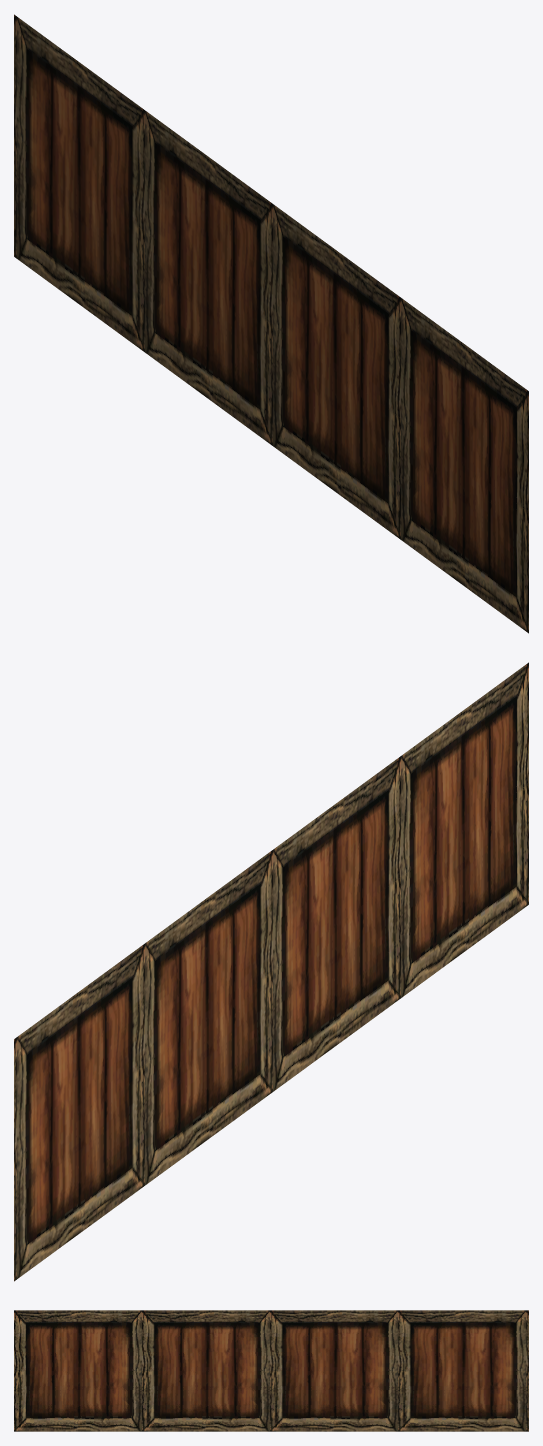
Rendered from LAKETOWN_EXTERIOR_PS_LT_PANEL297103.fbx.
3 renders of one model, top to bottom at view 1: azimuth 30°, elevation 25°; view 2: azimuth 150°, elevation 25°; view 3: azimuth 270°, elevation 25°, orthographic. The views are drawn at different scales.
Visible parts, largest first — view 1: LAKETOWN_EXTERIOR_PS_LT_PANEL297103; view 2: LAKETOWN_EXTERIOR_PS_LT_PANEL297103; view 3: LAKETOWN_EXTERIOR_PS_LT_PANEL297103.
Part boxes in pixels (x1,y1,x2,y2): LAKETOWN_EXTERIOR_PS_LT_PANEL297103: [14, 14, 528, 633]; LAKETOWN_EXTERIOR_PS_LT_PANEL297103: [14, 662, 528, 1281]; LAKETOWN_EXTERIOR_PS_LT_PANEL297103: [14, 1310, 528, 1431].
Bounding box in the file's own units: 0 × 8548 × 32924.
Materials: 1 (1 with a texture image).
